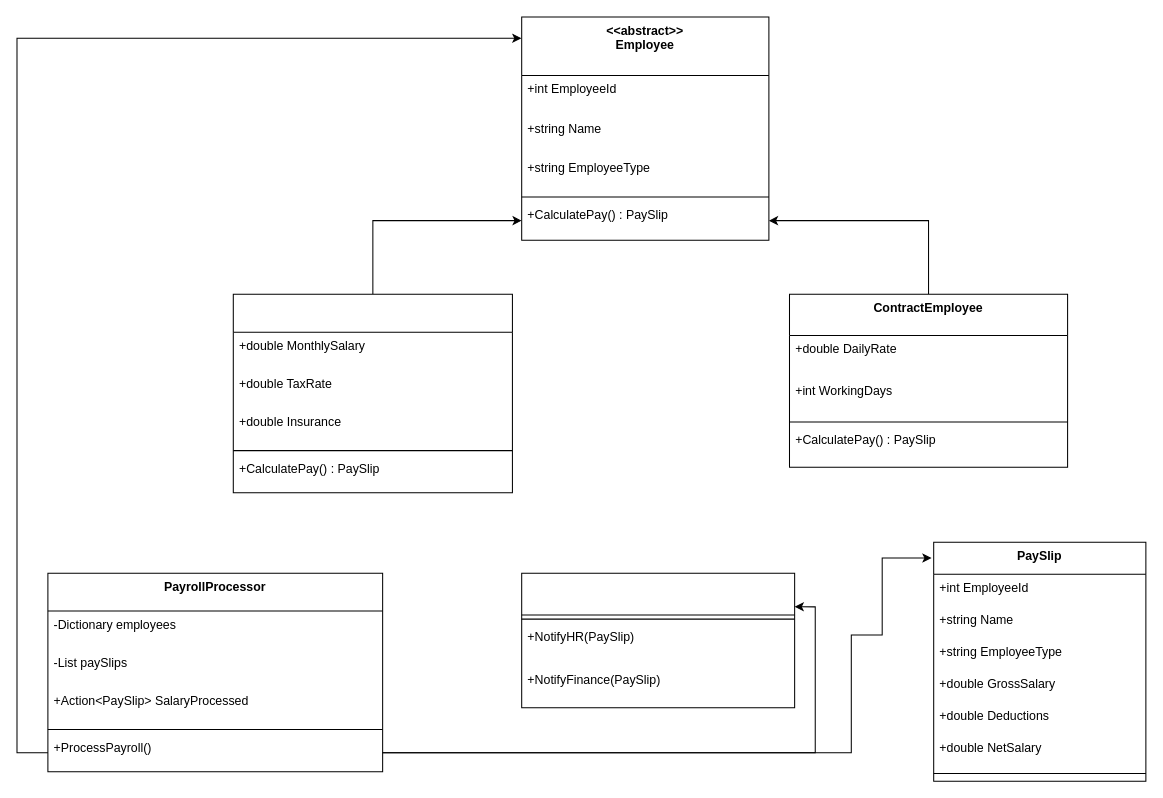
Image size: 1163x798. Some labels were removed from this diagram. Here are the shapes that lost their labels. From the top down, the box of each, then its label:
(232, 293, 512, 493): FullTimeEmployee
(521, 572, 795, 708): NotificationService
